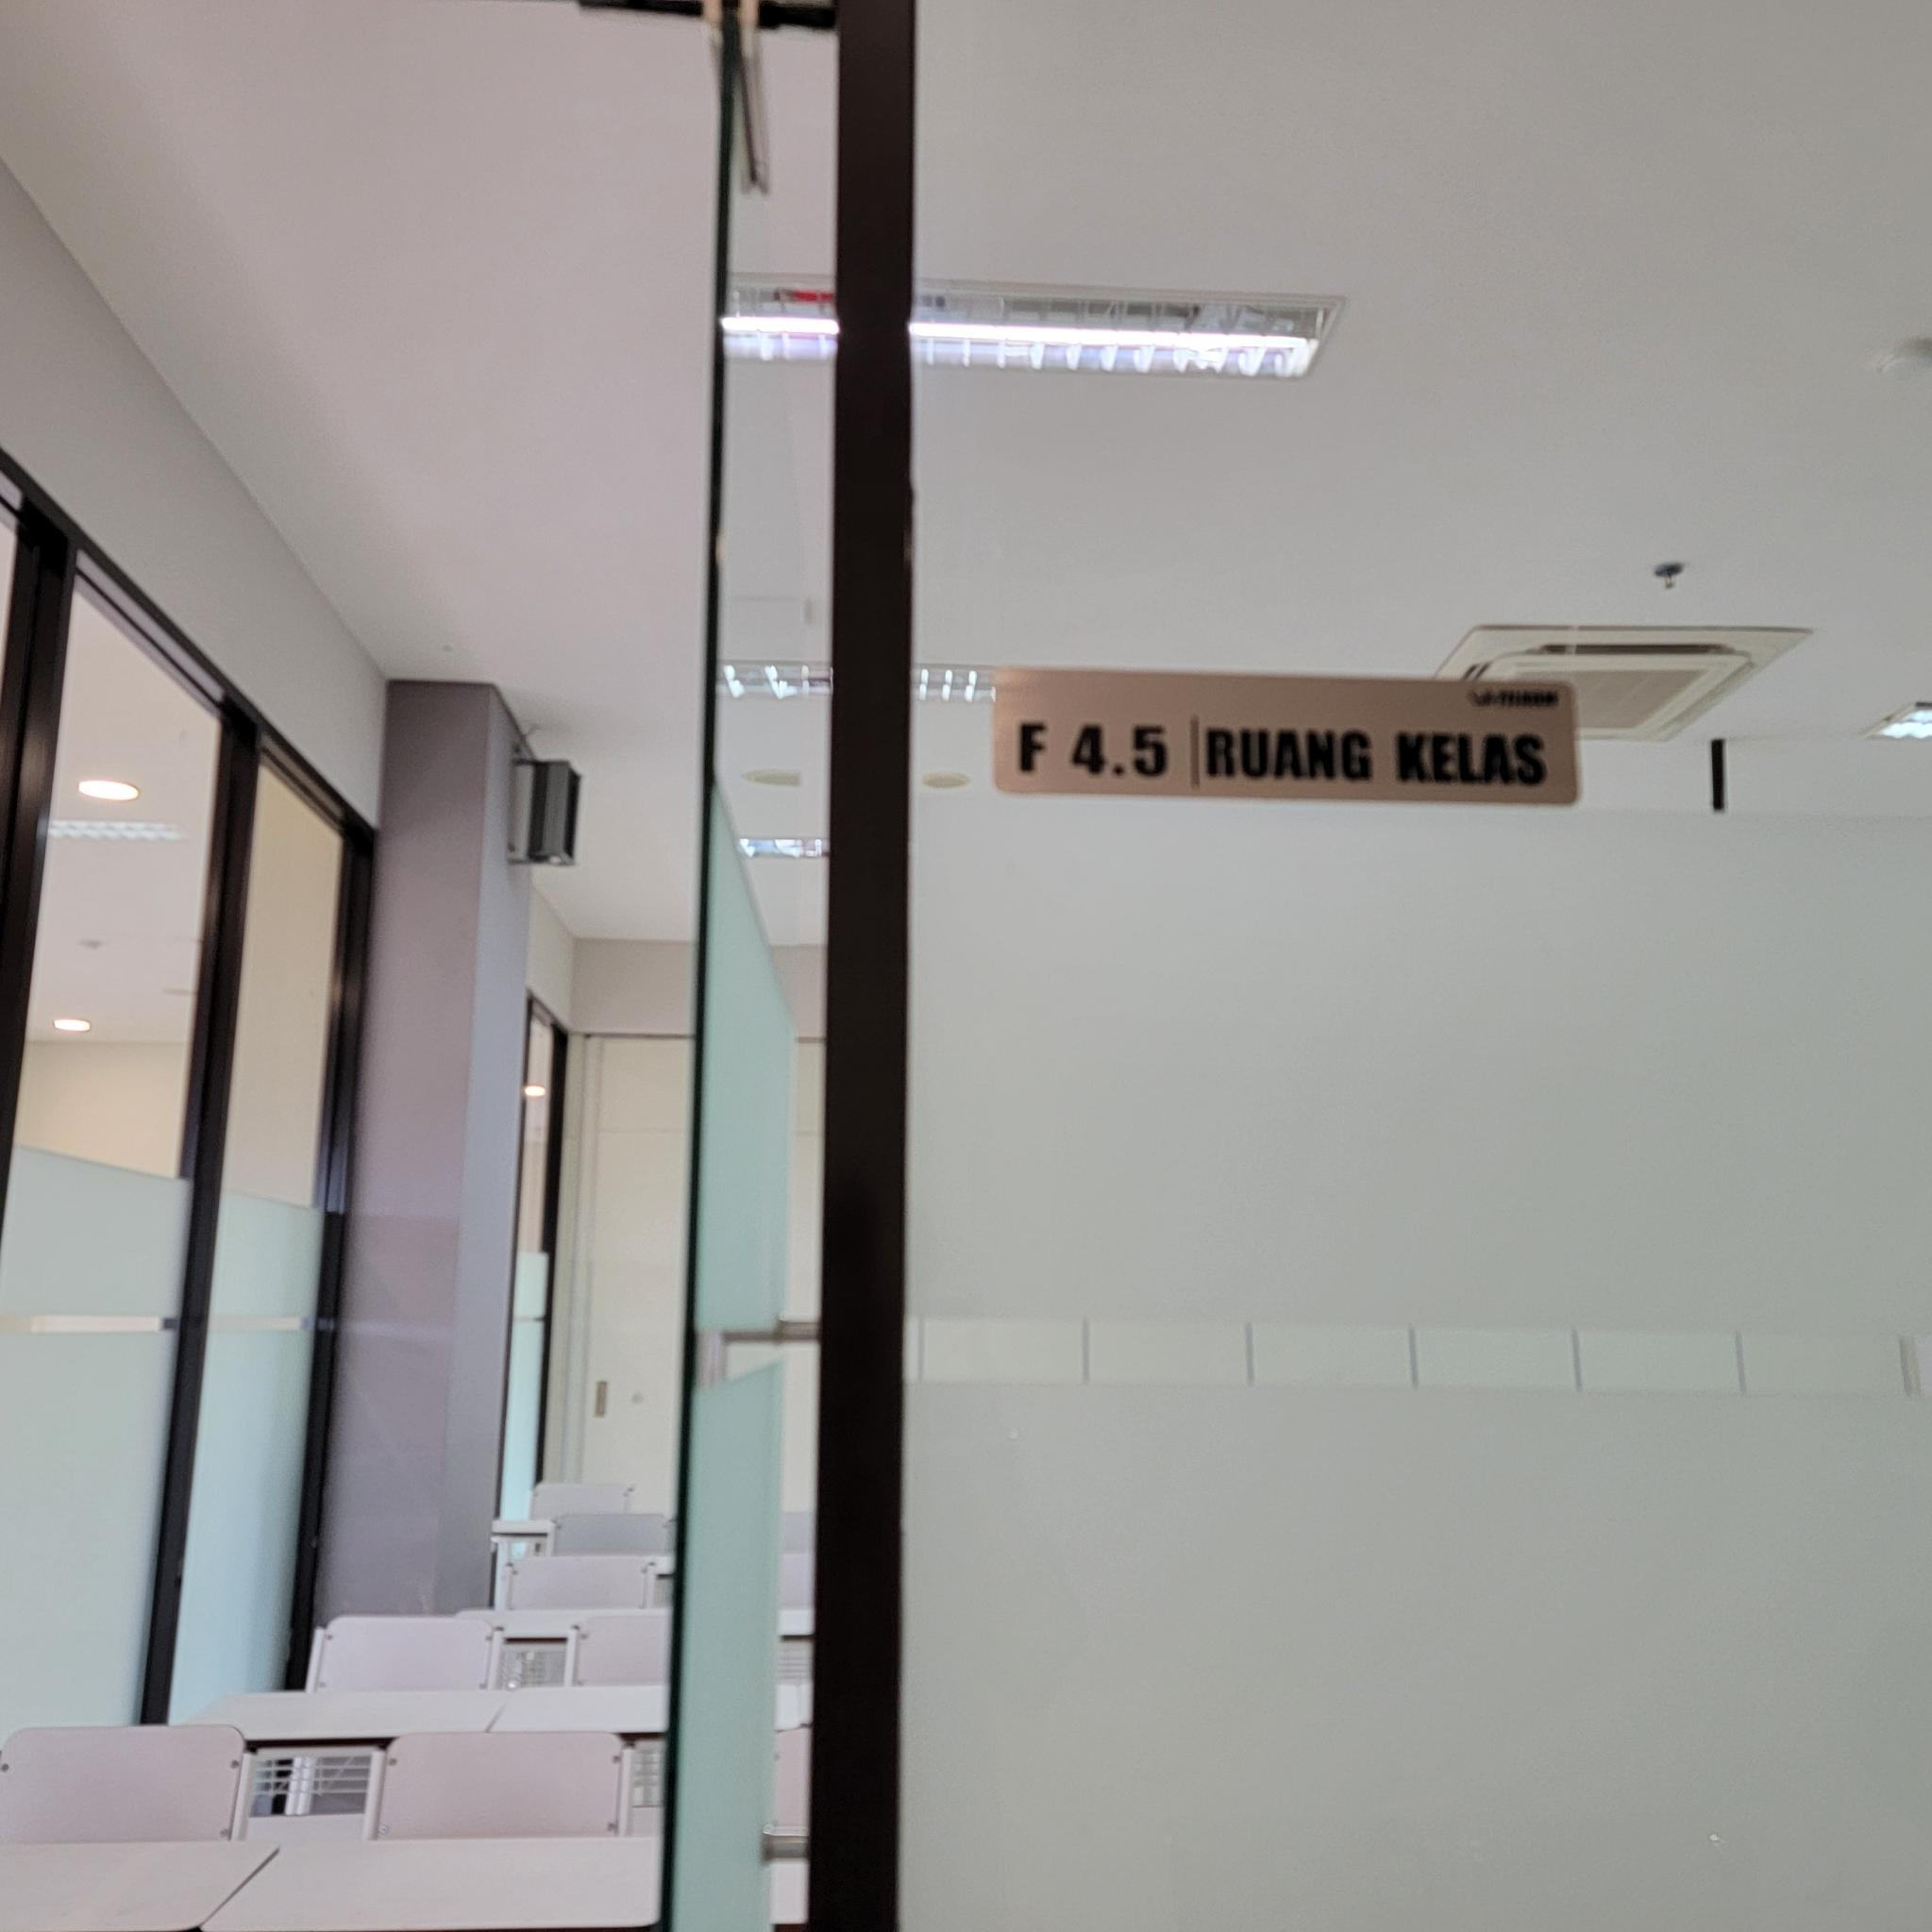plate: (993, 663, 1585, 807)
